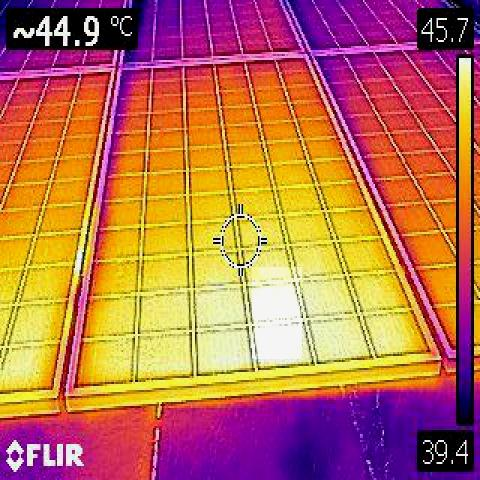fault: (252, 267, 302, 359)
